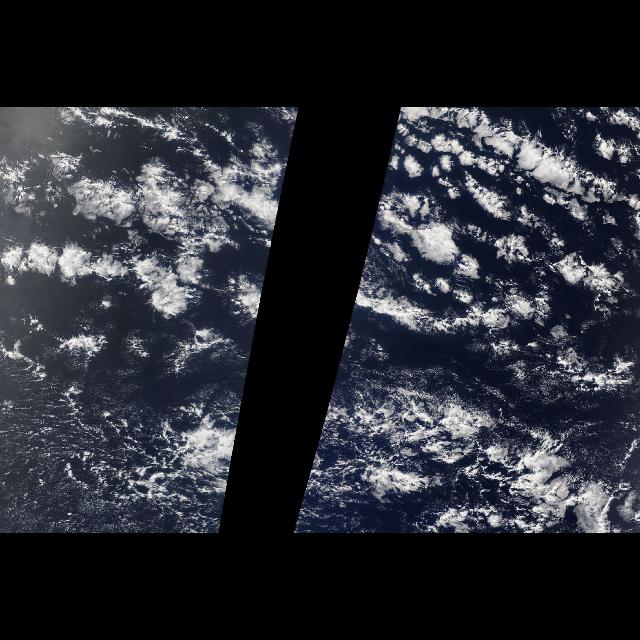Flower: (329, 110, 639, 394), (3, 116, 298, 394)
Gravel: (72, 361, 206, 504), (388, 416, 540, 534)
